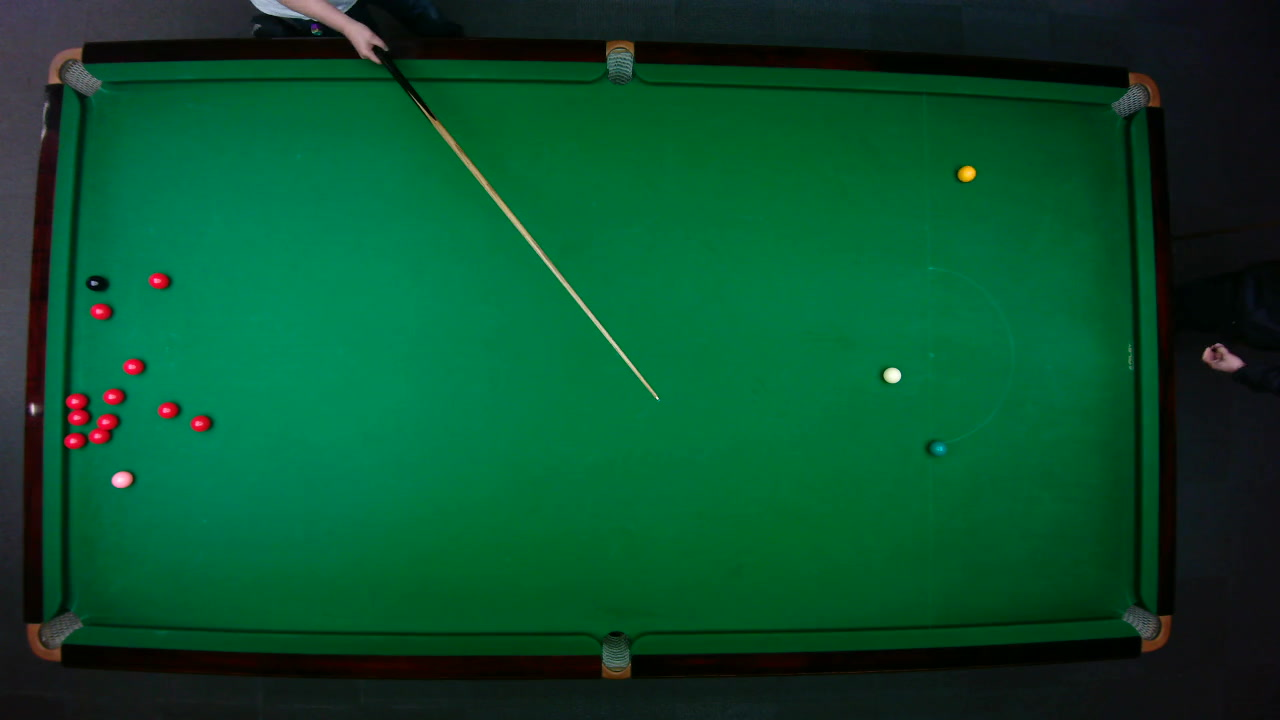bag: (25, 609, 83, 661), (45, 46, 102, 96), (1120, 603, 1171, 651), (1108, 72, 1160, 118), (601, 629, 630, 680), (605, 38, 633, 85)
black: (84, 274, 106, 291)
cue: (371, 43, 658, 401)
green: (928, 439, 947, 456)
pink: (109, 468, 134, 489)
red: (63, 391, 88, 409), (61, 431, 86, 449), (189, 413, 212, 432), (88, 302, 112, 320), (121, 357, 144, 375), (147, 271, 170, 289), (156, 400, 179, 418), (65, 408, 89, 425), (101, 387, 125, 404), (95, 412, 118, 429), (87, 427, 110, 444)
white: (881, 365, 902, 383)
yellow: (956, 164, 976, 182)
zone: (926, 265, 1014, 444)
